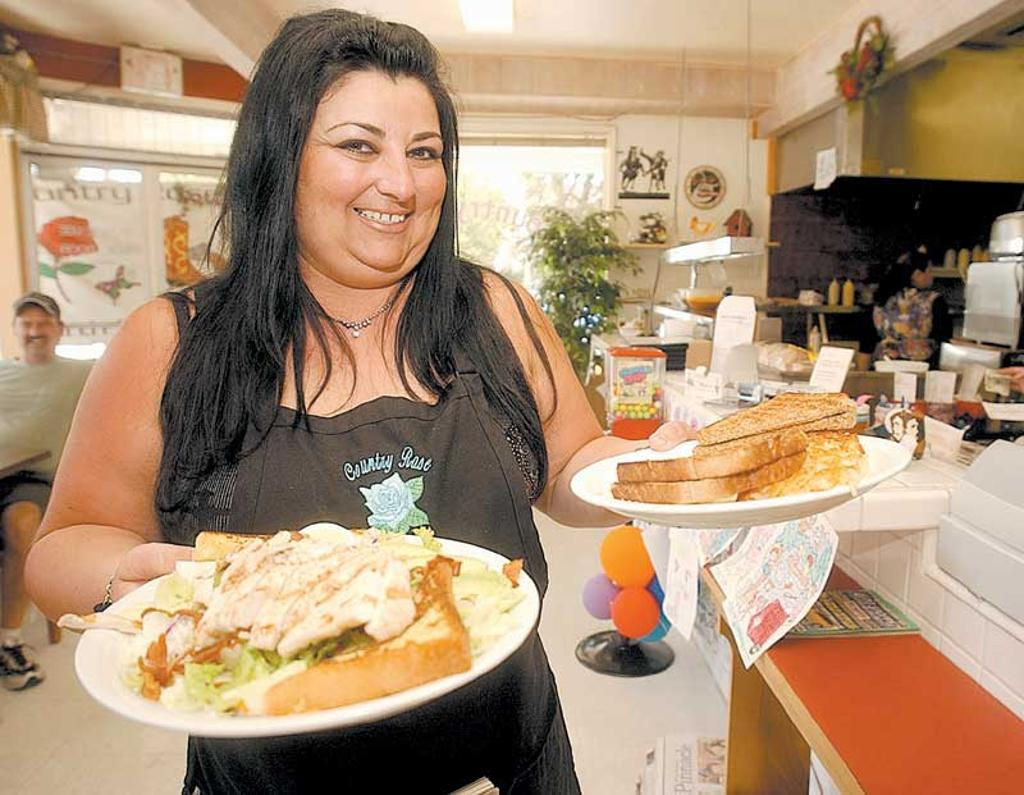face: (294, 84, 446, 269), (16, 313, 56, 362), (913, 263, 932, 287)
